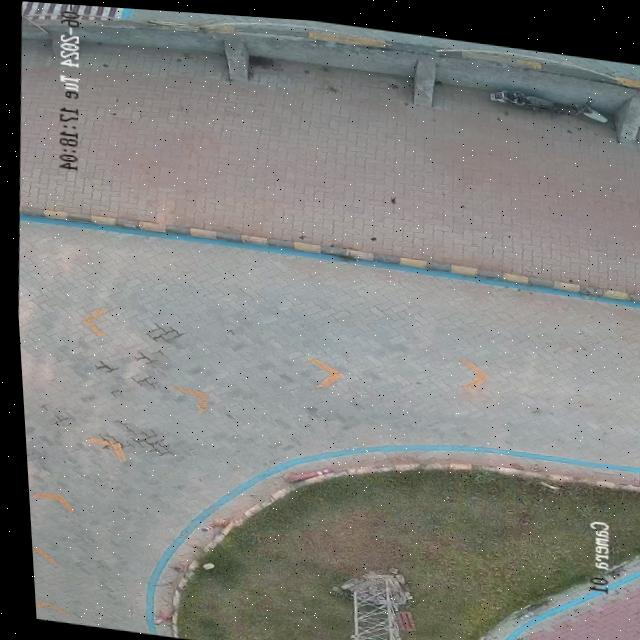No Car: (14, 1, 640, 640)
